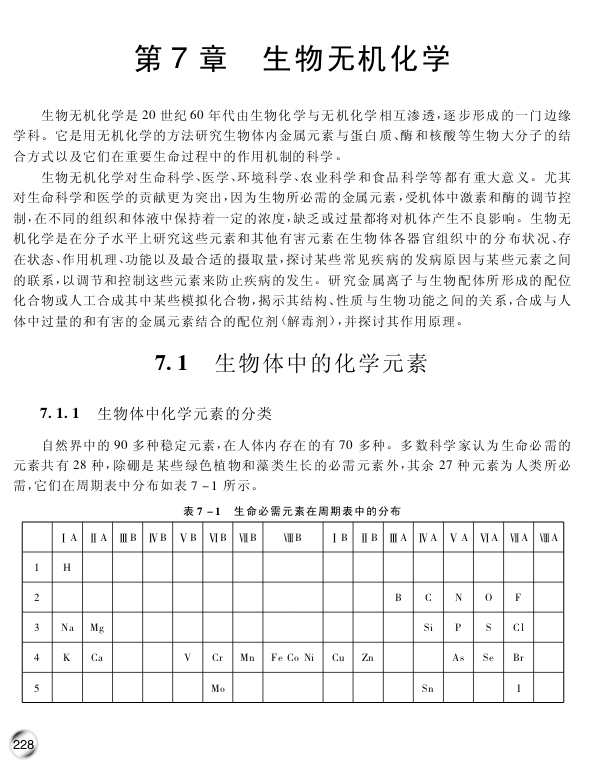table: (21, 521, 565, 704)
